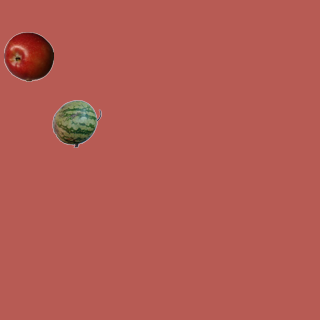Apple Braeburn: (3, 31, 53, 81)
Watermelon: (51, 98, 101, 148)
